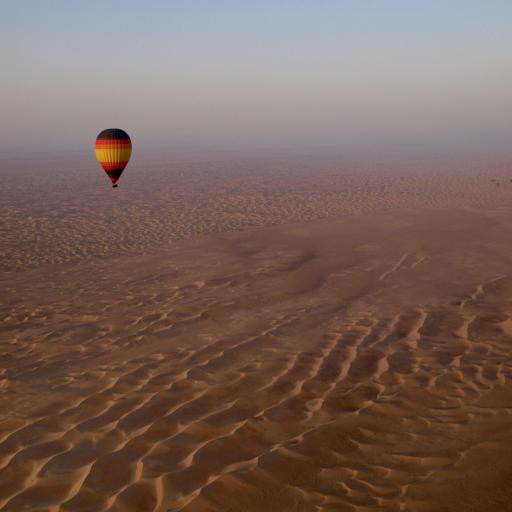hot air ballon: (95, 129, 132, 188)
